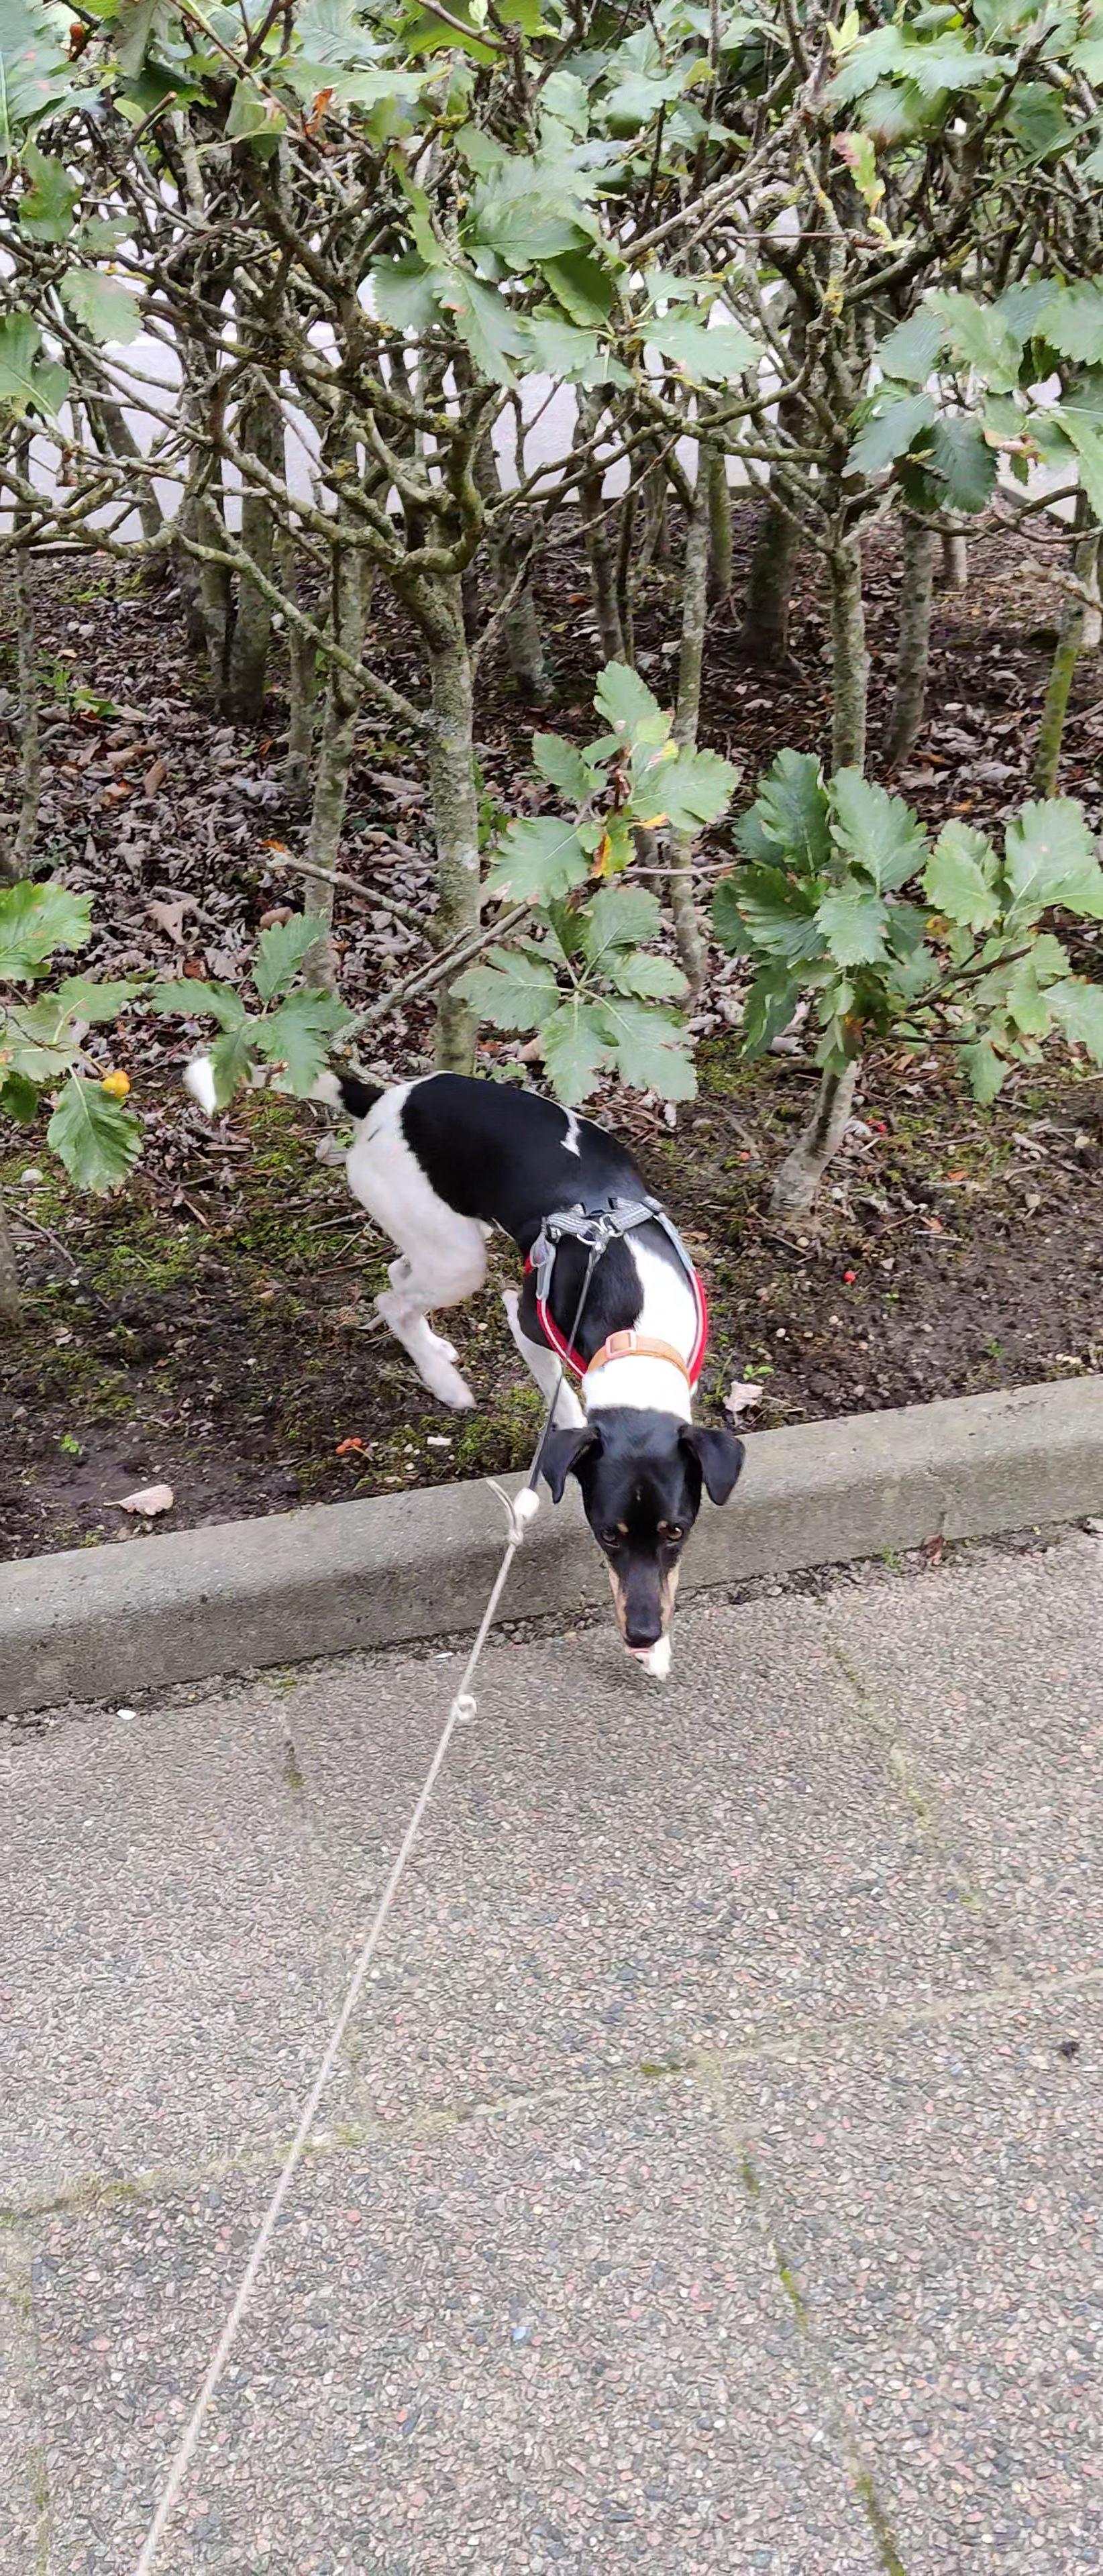Dog: (164, 1030, 761, 1697)
